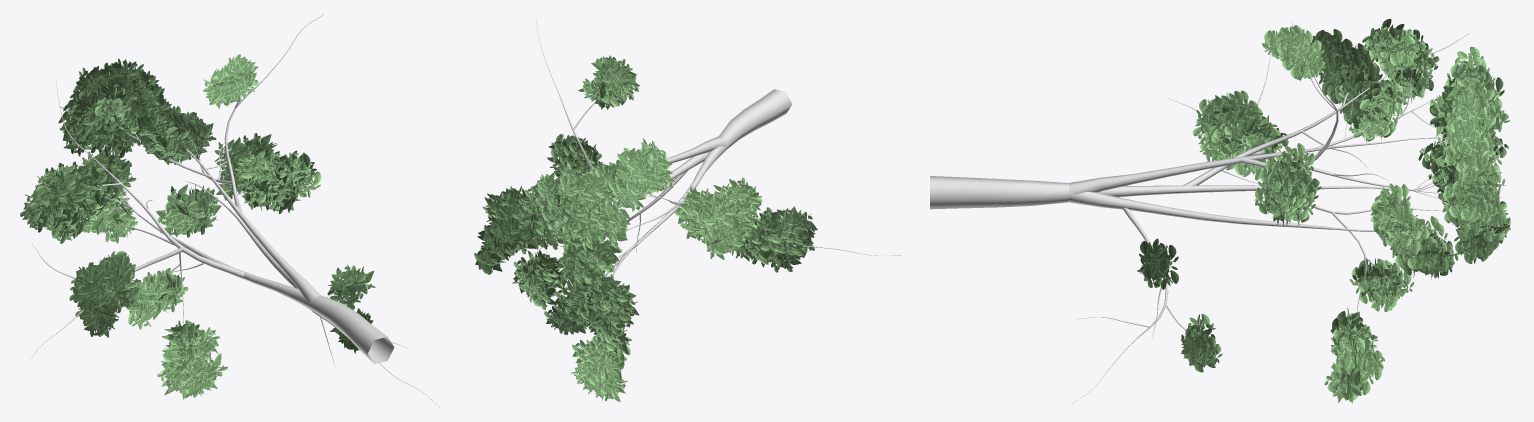
Rendered from Tree 3 fixed.fbx.
3 views of the same model, side by side, from view 1: azimuth 30°, elevation 25°; view 2: azimuth 150°, elevation 25°; view 3: azimuth 270°, elevation 25° (orthographic). The views are drawn at different scales.
Visible parts, largest first — view 1: Original Leaves.002; view 2: Original Leaves.002; view 3: Original Leaves.002.
Boxes of the visible parts, x1=… form: Original Leaves.002: x1=20, y1=14, x2=440, y2=407; Original Leaves.002: x1=474, y1=15, x2=901, y2=401; Original Leaves.002: x1=930, y1=19, x2=1511, y2=404.
Size of the model in its own units: 564 by 562 by 720.
